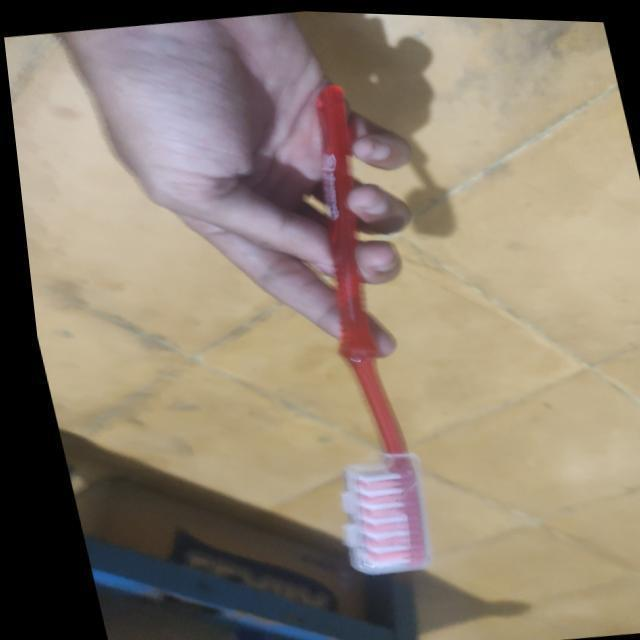toothbrush: (220, 67, 500, 596)
